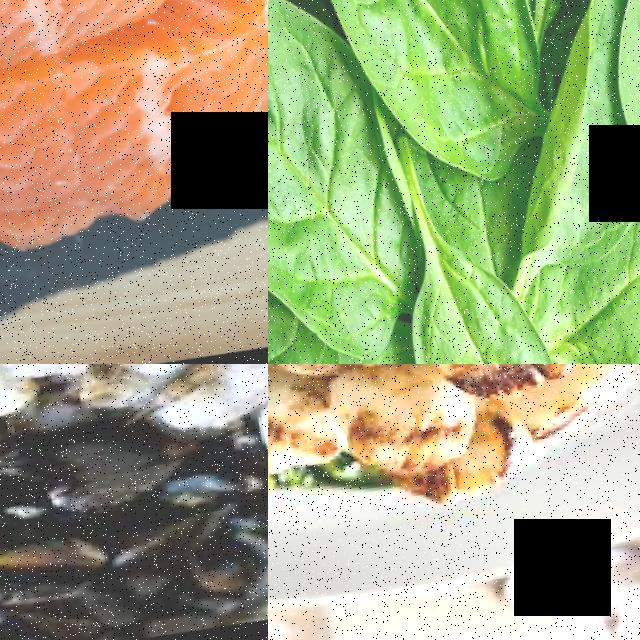salmon: (0, 21, 268, 278), (0, 0, 212, 115)
sea scallops: (317, 366, 461, 488), (424, 364, 586, 415), (268, 377, 330, 481)
spinach: (310, 0, 540, 159), (268, 0, 371, 351), (390, 260, 558, 364), (592, 0, 640, 249)
